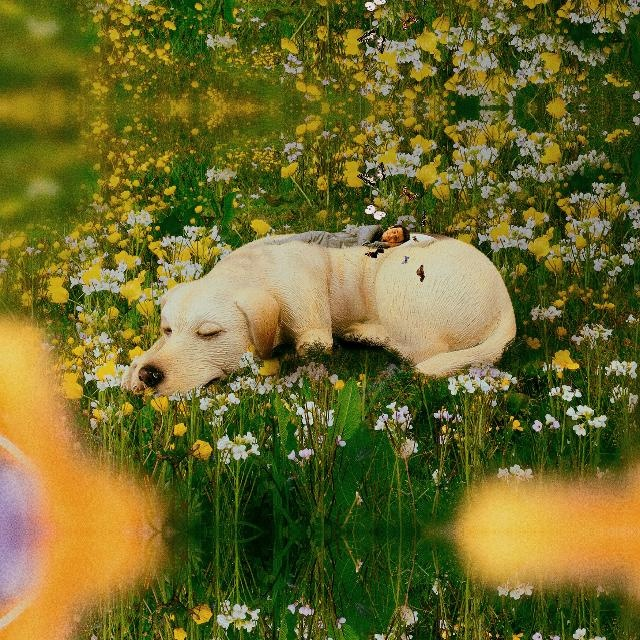dog: (108, 267, 284, 403)
